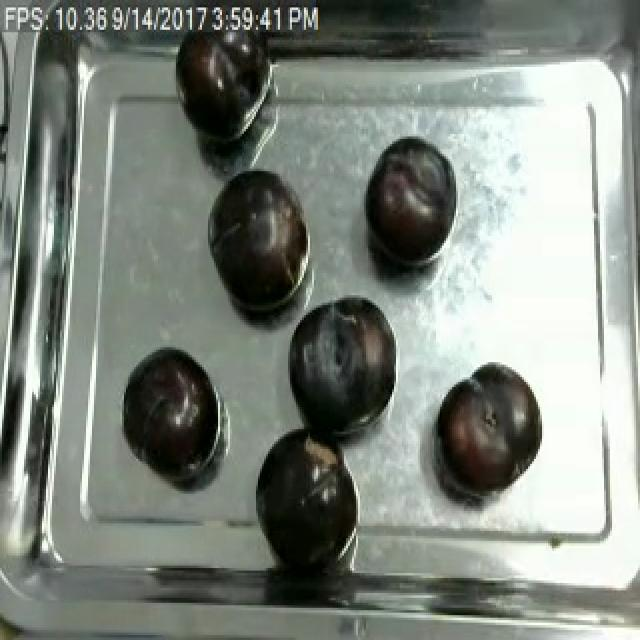Fruit: (278, 288, 400, 444), (204, 156, 312, 320), (252, 424, 362, 571), (430, 365, 542, 501), (118, 342, 222, 479), (358, 134, 456, 273)
